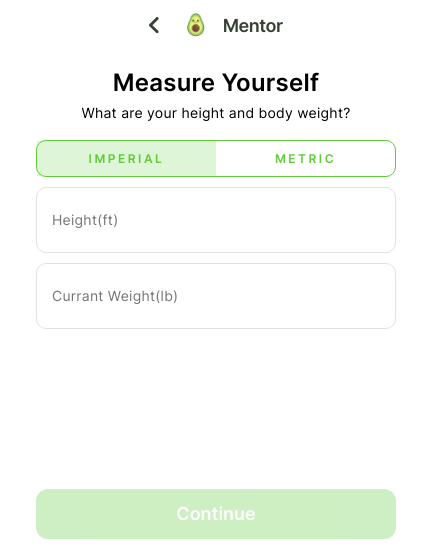
it: Tests for Measurement page › continue button must route to next page
In the field with test id "input-height": (216, 220) x1=36 y1=187 x2=396 y2=253, type "1"
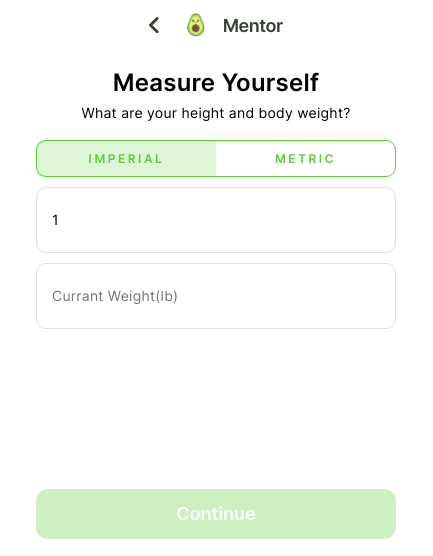
In the field with test id "input-weight": (216, 296) x1=36 y1=263 x2=396 y2=329, type "1.2"
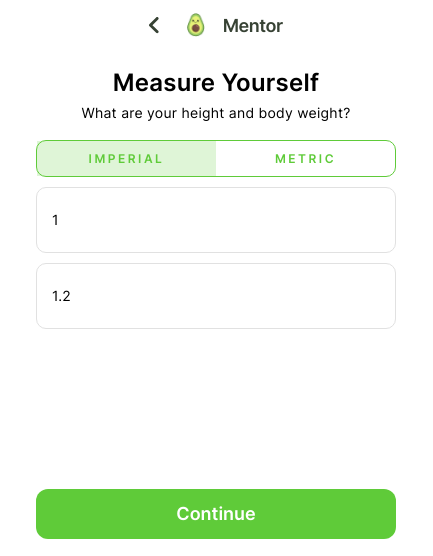
Check: the button with test id "continue" is enabled
Click the button with test id "continue": (216, 514) x1=36 y1=489 x2=396 y2=539
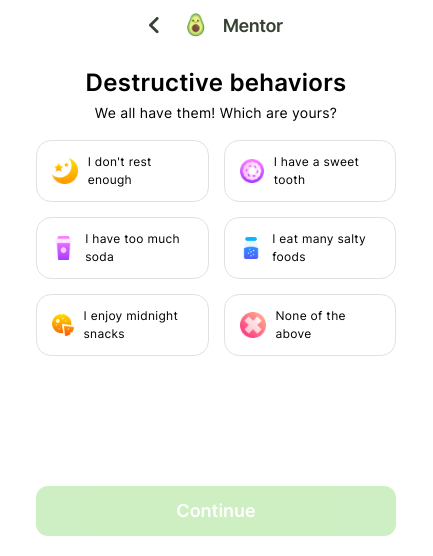
Check: the element with test id "behaviors" is shown
